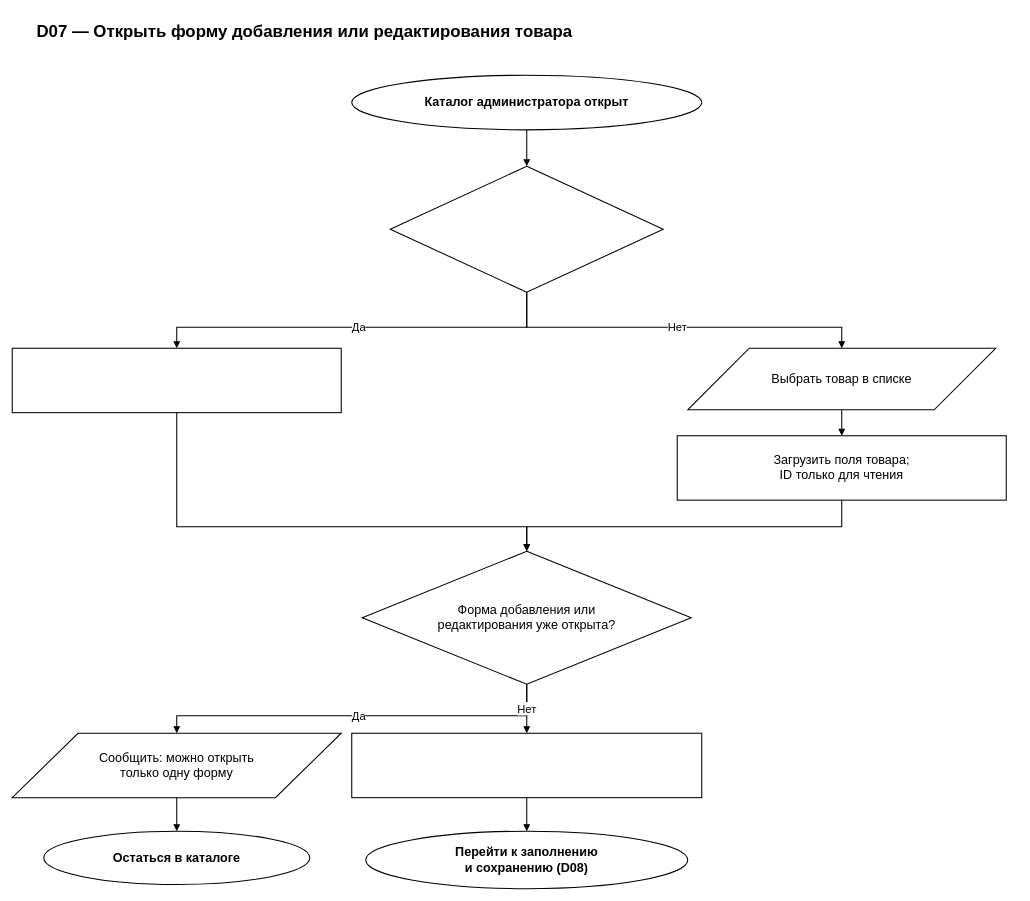
This 1030x901 diagram has some shape labels left out. Here are the shapes that lost their labels. From the top down, the box of each, then its label:
(389, 165, 663, 292): Нажата кнопка «Добавить товар»?
(11, 347, 341, 413): Подготовить новую форму; ID не показывать
(351, 732, 702, 798): Открыть форму товара с подходящим заголовком
